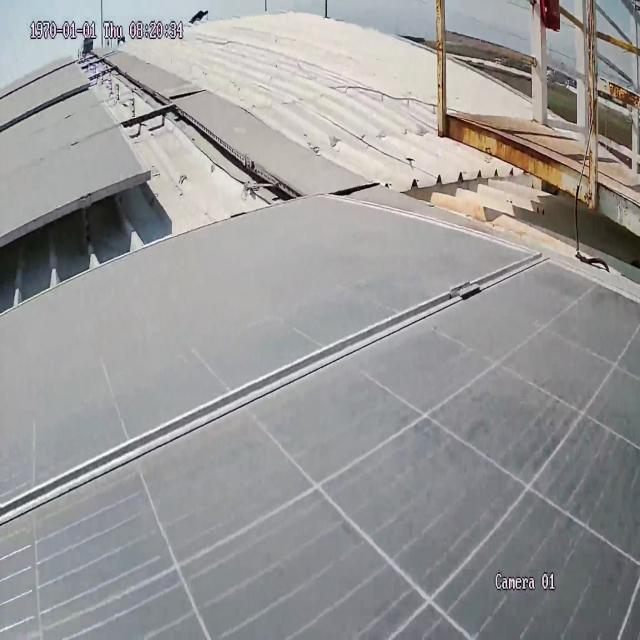interior panel: (0, 233, 577, 569)
